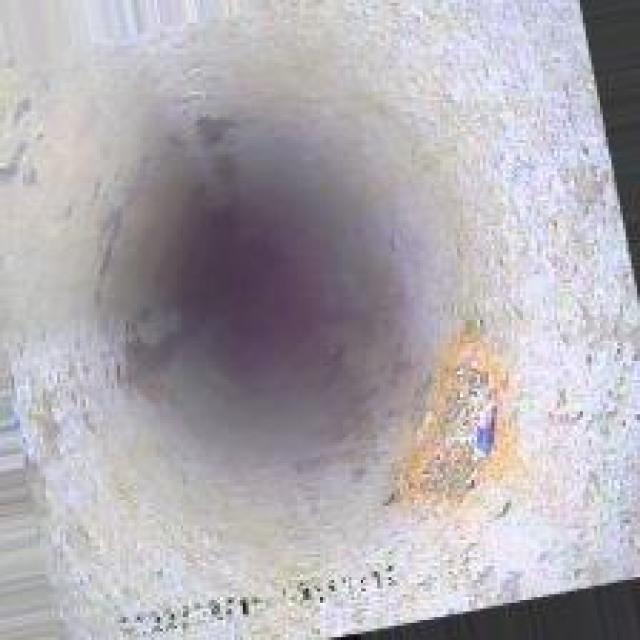ferrule: (417, 334, 512, 486)
